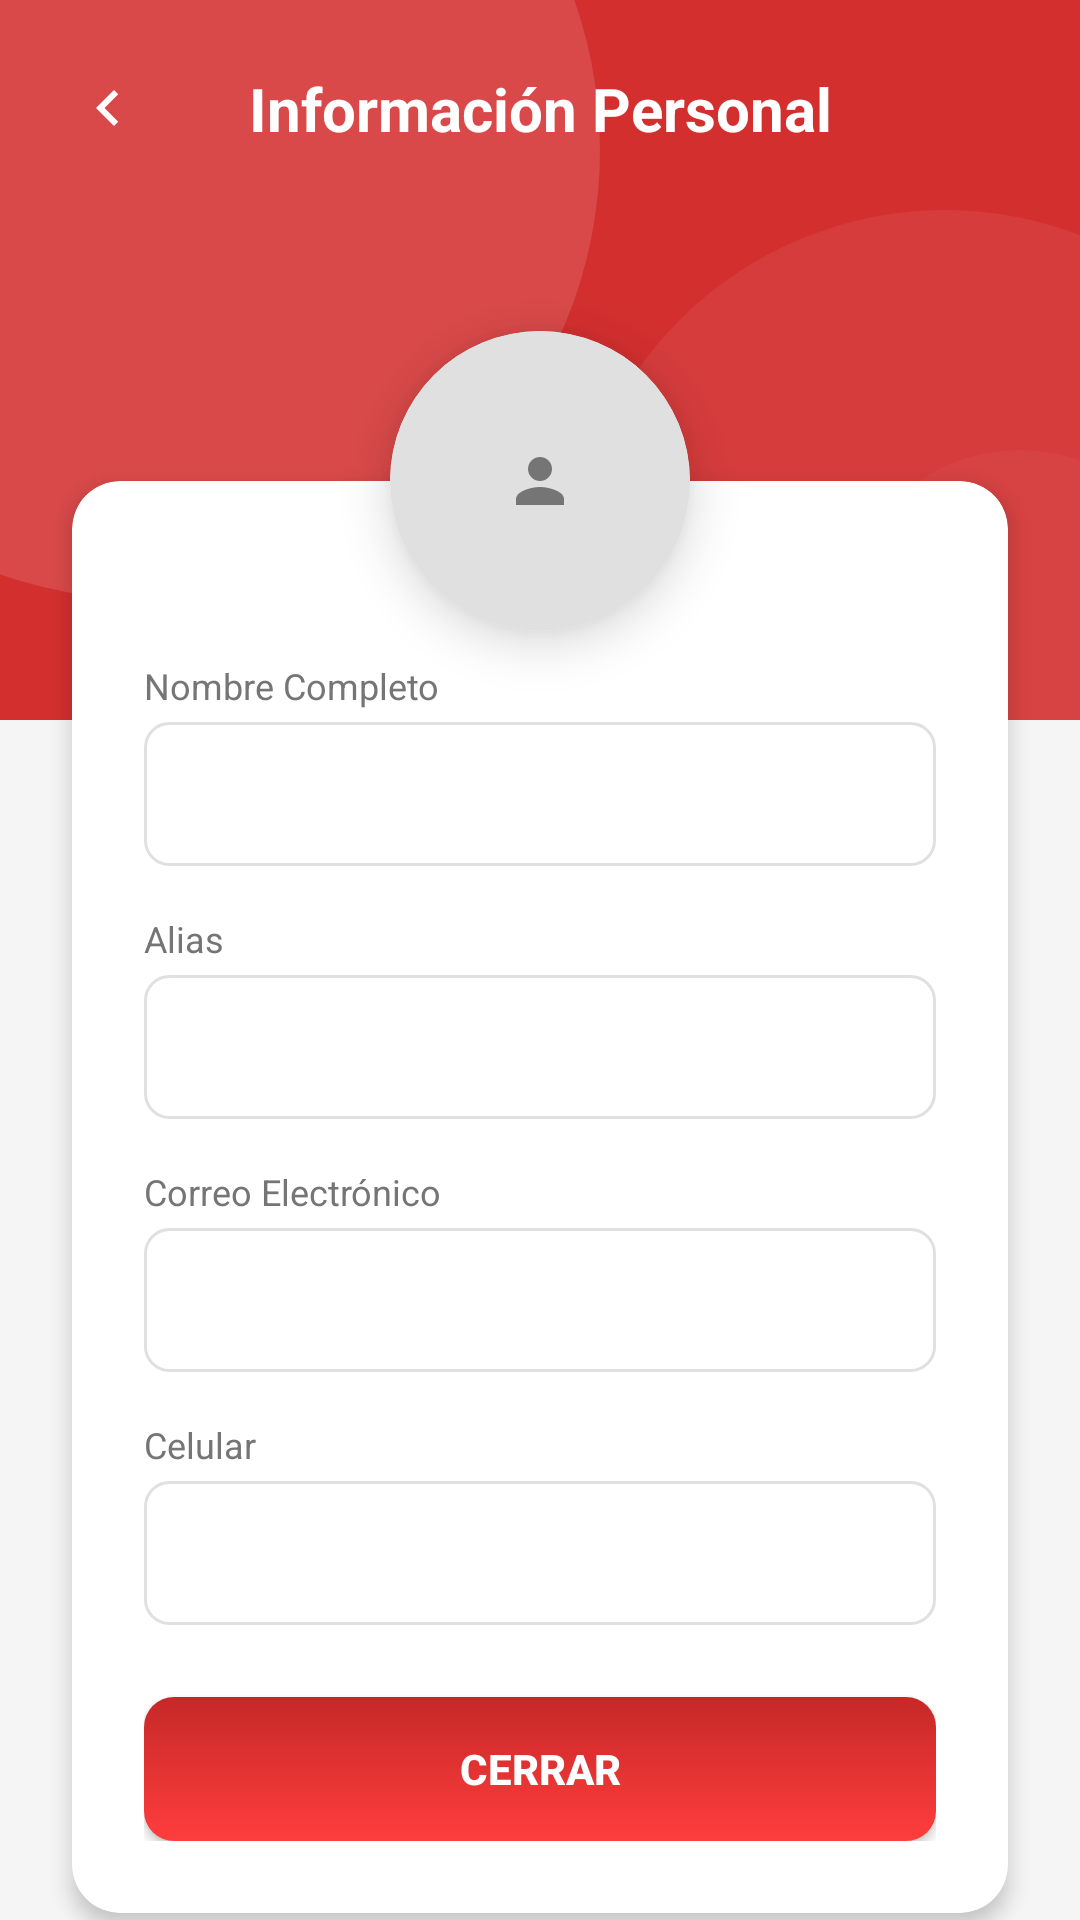

Point at icon controls on the screen. Image size 1080px x 1920px, points as (x,y).
person: (540,481)
